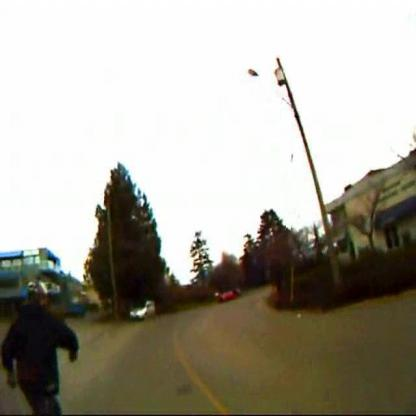other: (207, 282, 241, 301)
